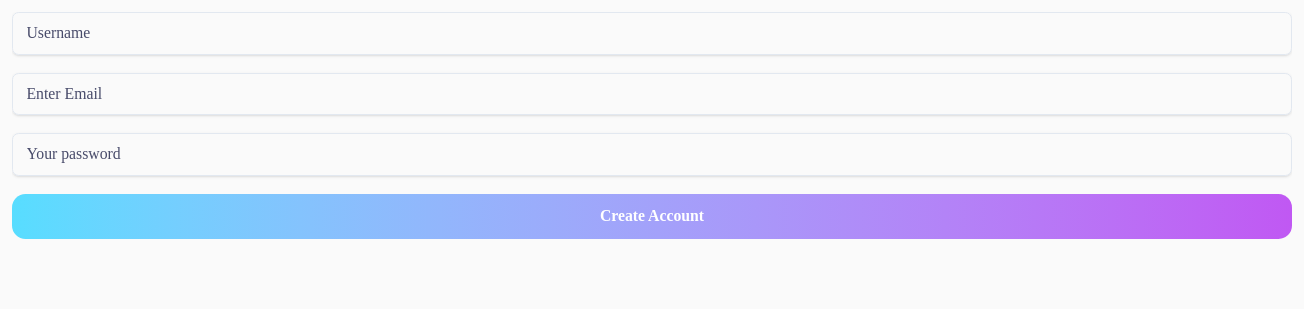
Scenario: RegisterForm › should show error message on duplicate user
Type "alice" into the field with placeholder "Username". click: (652, 33)
box: [12, 12, 1292, 54]
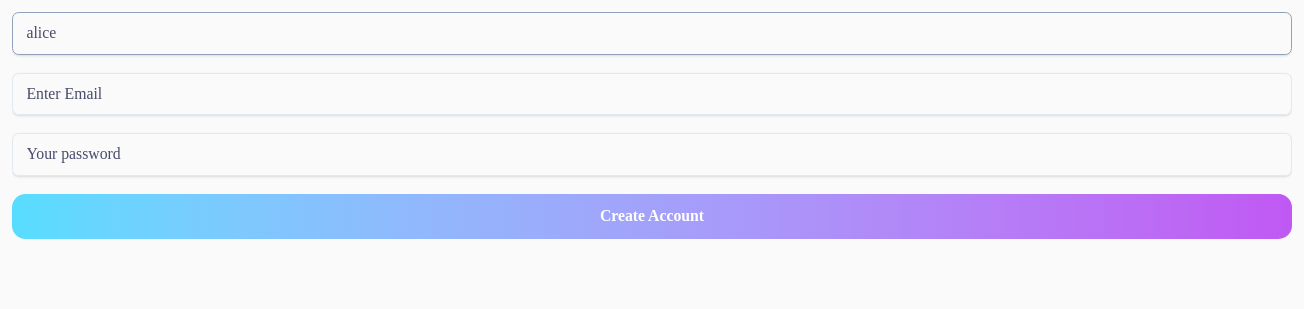
Type "alice@example.com" into the field with placeholder "Enter Email". click: (652, 94)
box: [12, 72, 1292, 115]
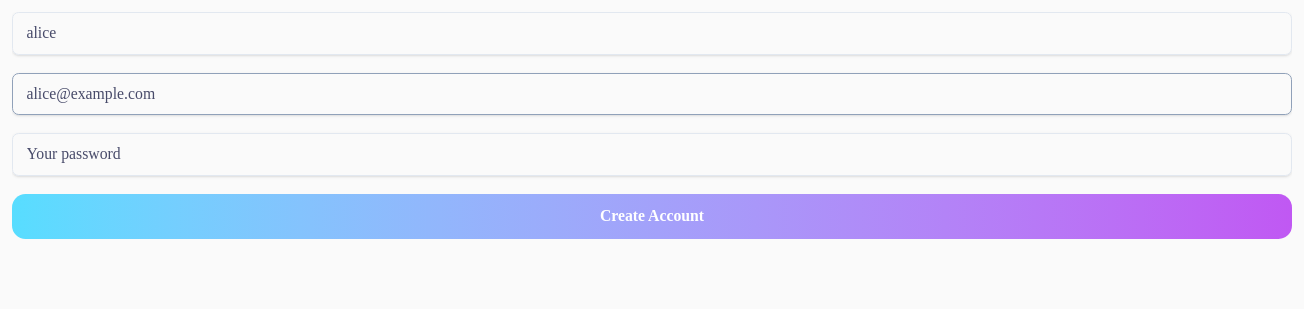
Type "secret123" into the password field with placeholder "Your password". click: (652, 154)
box: [12, 133, 1292, 176]
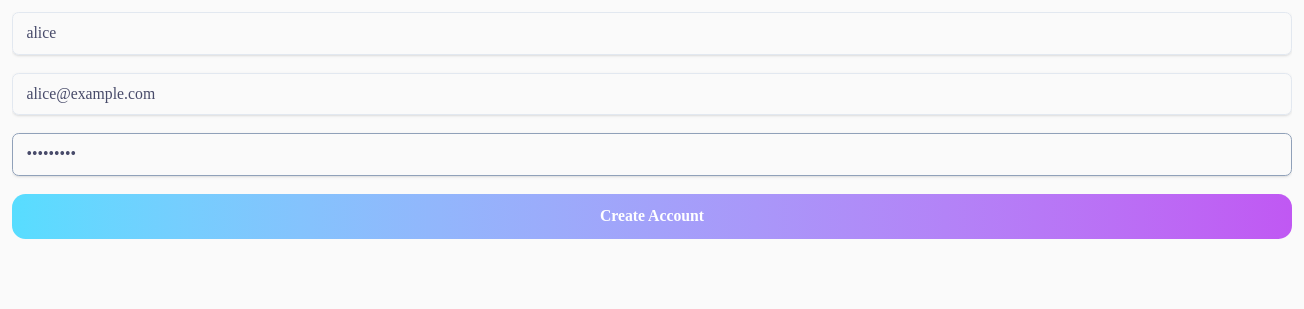
Click the button "Create Account". click: (652, 216)
box: [12, 194, 1292, 238]
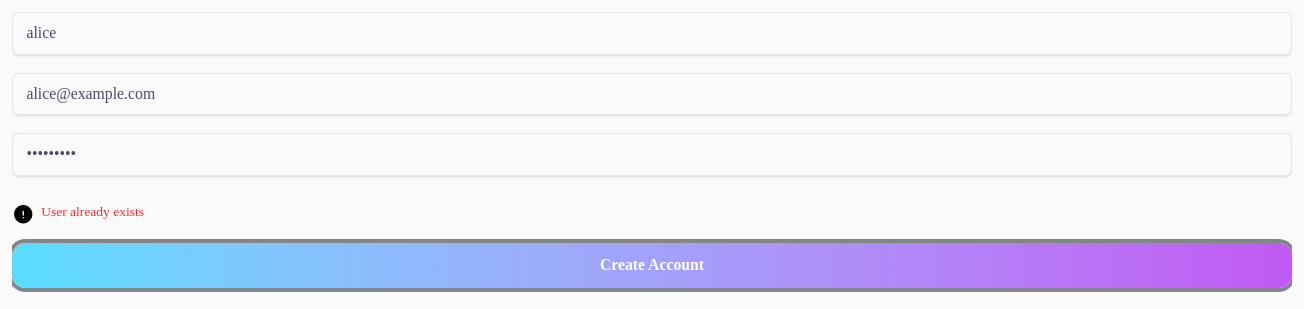
Now the text "User already exists" is shown, box [12, 202, 144, 225]
